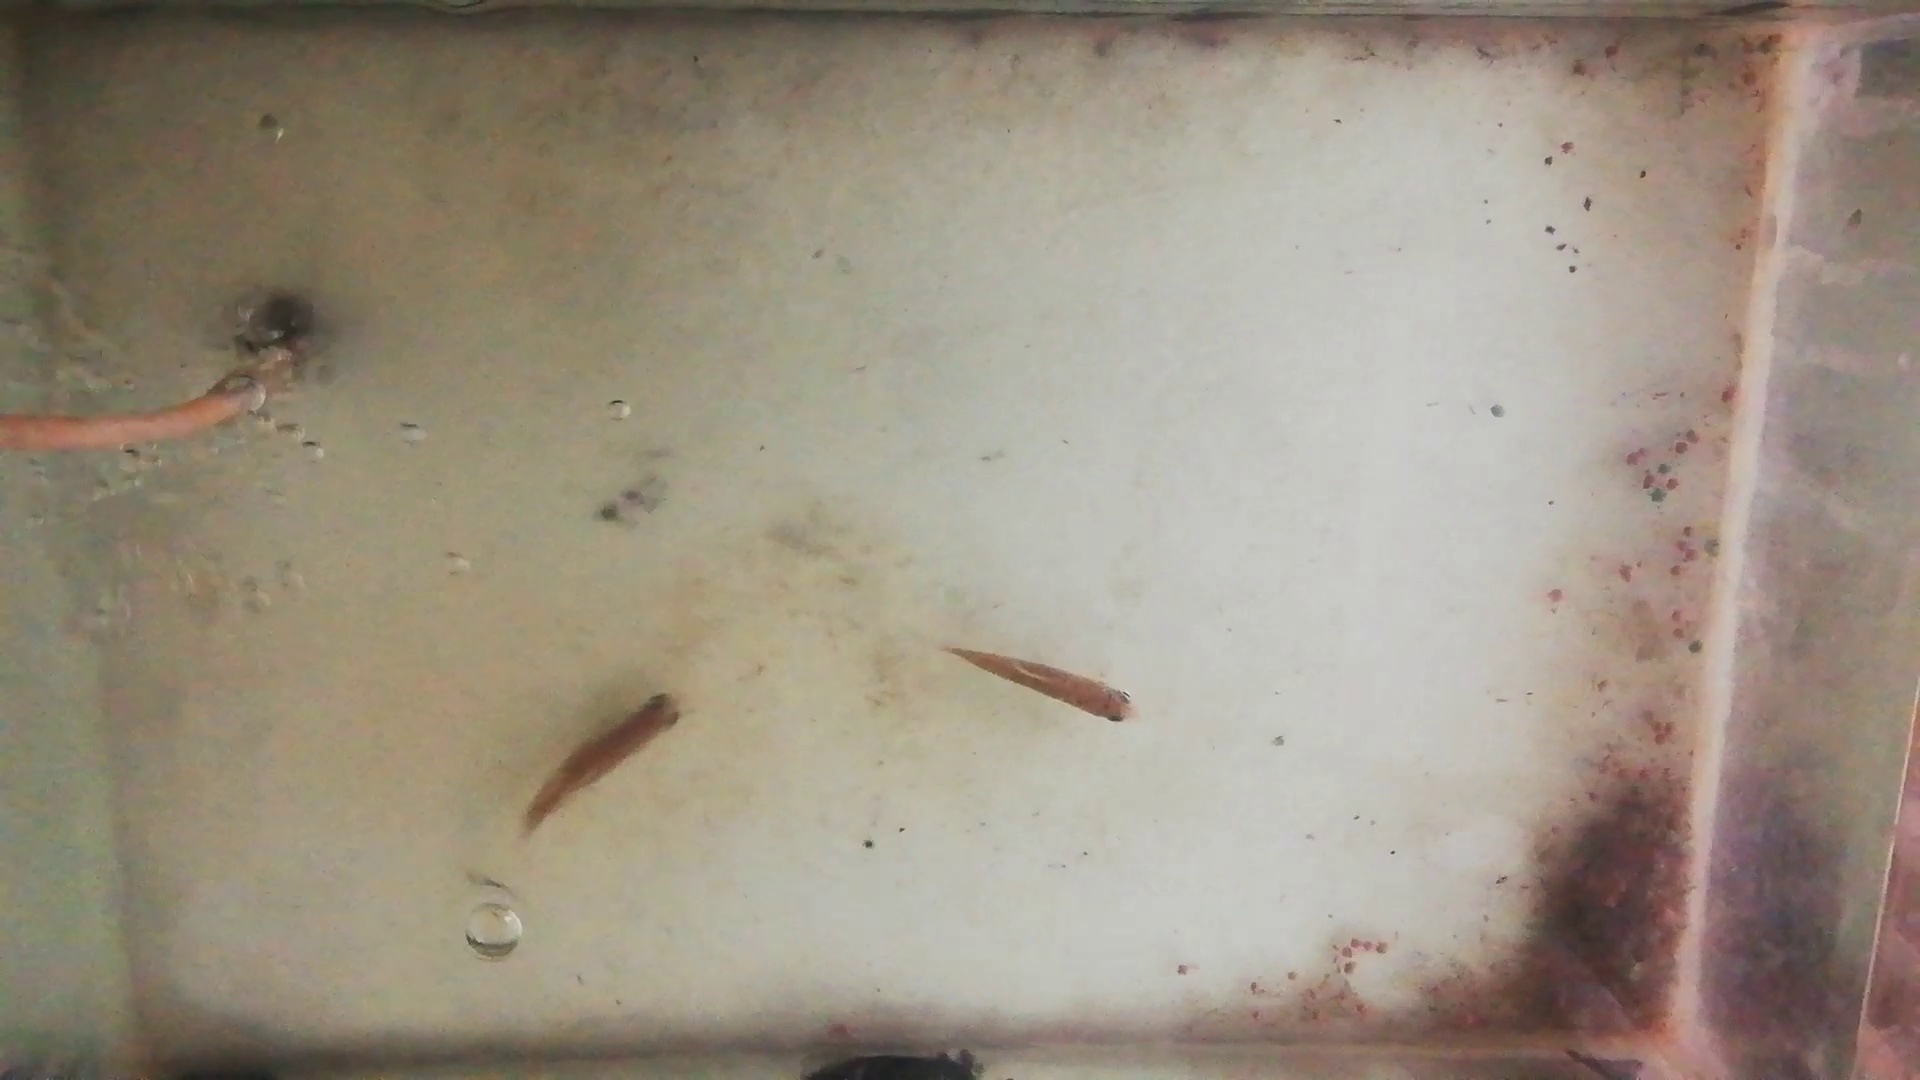fish: (520, 691, 686, 833), (940, 644, 1142, 727)
